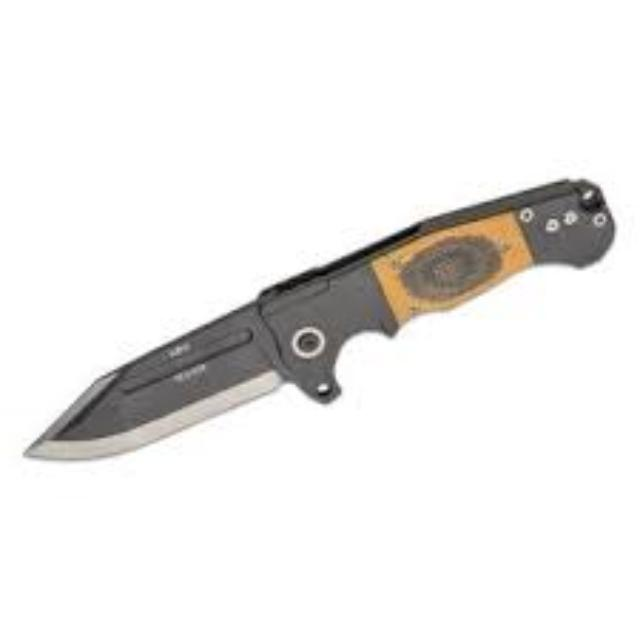knife: (20, 174, 614, 460)
